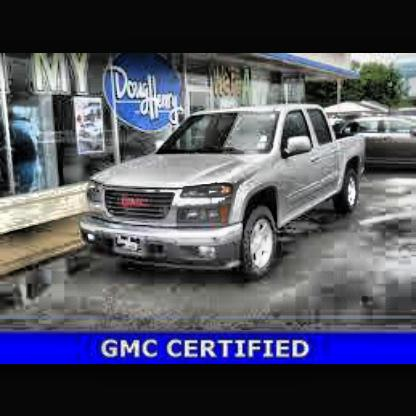GMC Canyon Extended Cab 2012: (82, 106, 369, 284)
